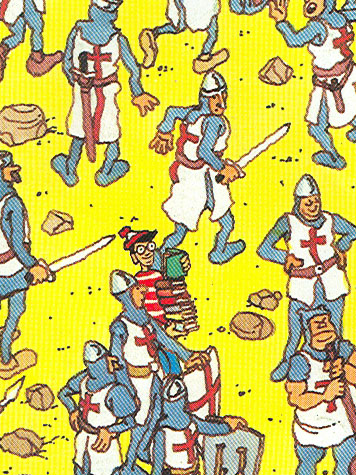waldo: (121, 227, 157, 267)
